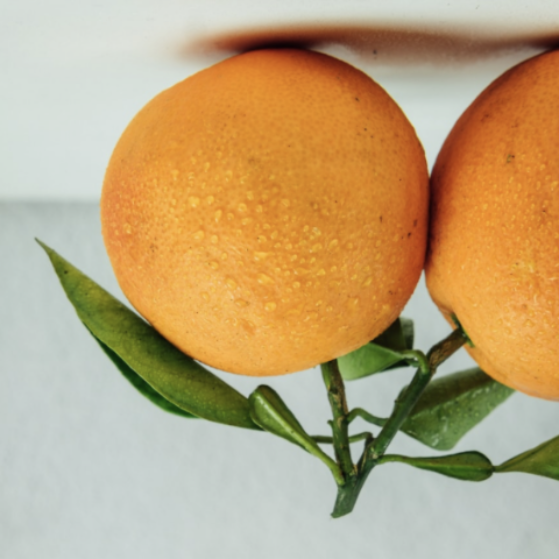orange: (68, 26, 465, 413)
